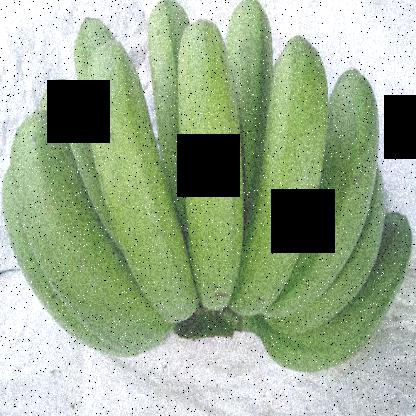unripe: (16, 108, 162, 347), (225, 30, 335, 318), (85, 41, 195, 326), (284, 54, 387, 342), (174, 15, 260, 324)
